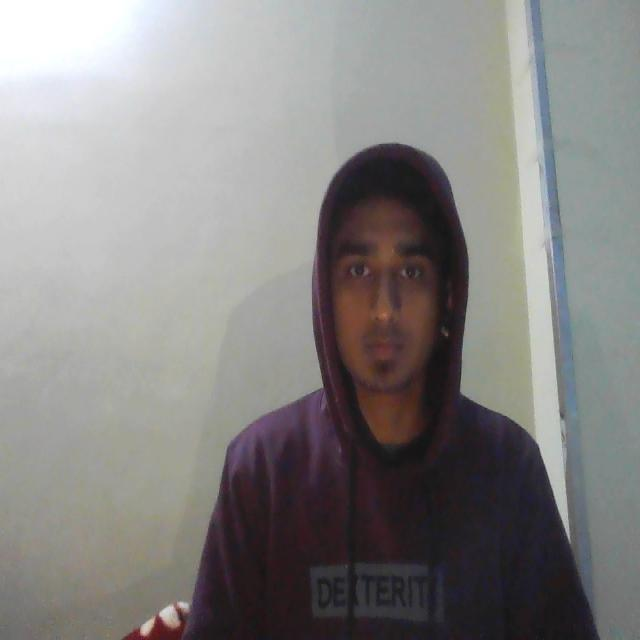real: (309, 133, 466, 430)
